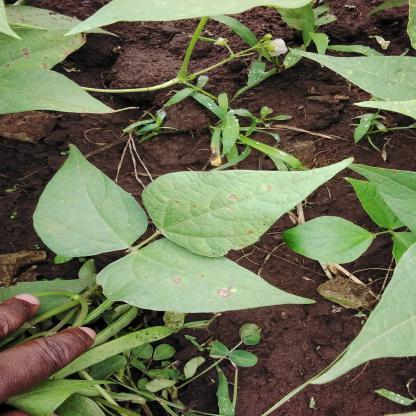Beans_Angular_LeafSpot: (143, 158, 340, 247), (112, 249, 314, 315), (32, 144, 146, 256)
